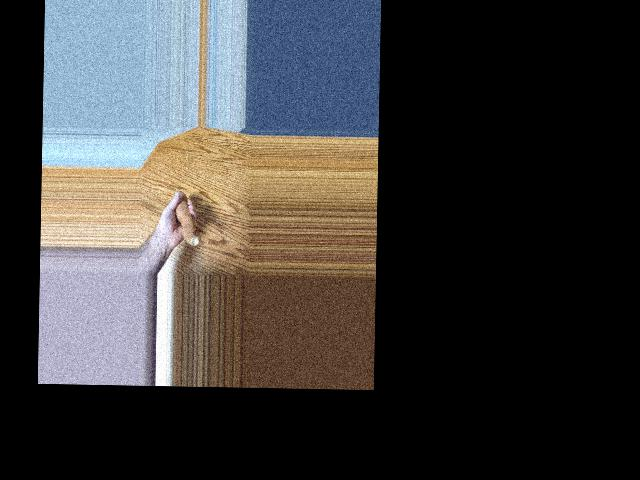sweet_potato: (174, 188, 199, 249)
